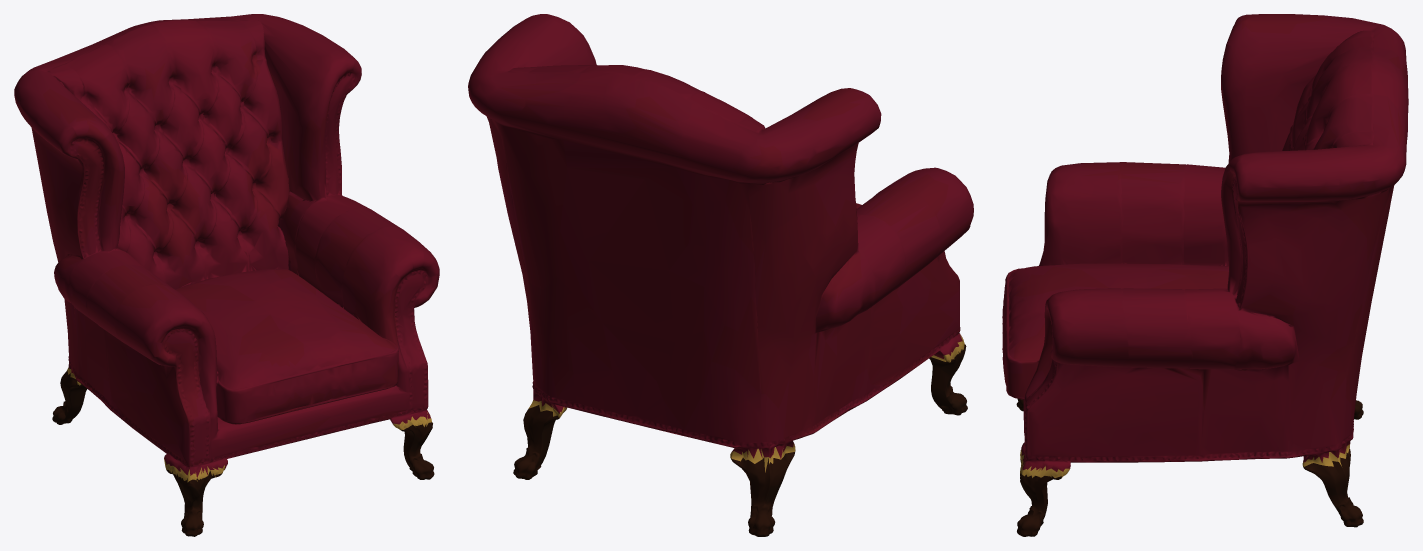
The model's file is x_chair.glb.
3 views of the same model, side by side, from view 1: azimuth 30°, elevation 25°; view 2: azimuth 150°, elevation 25°; view 3: azimuth 270°, elevation 25° (orthographic). The views are drawn at different scales.
Parts seen in each view (by area): view 1: Mesh; view 2: Mesh; view 3: Mesh.
Boxes of the visible parts, box(x1,y1,x2,y2) form: Mesh: box(14, 14, 439, 536); Mesh: box(468, 14, 973, 536); Mesh: box(1002, 14, 1408, 536).
Size of the model in its own units: 1.64 by 1.9 by 1.72.
